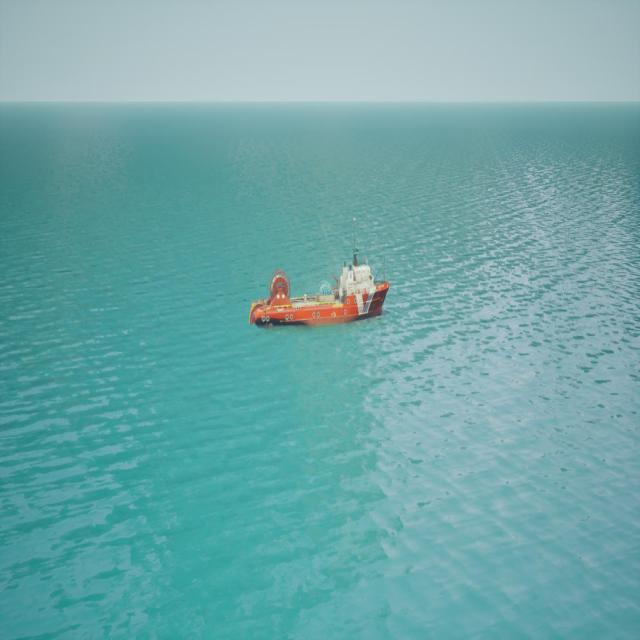tug boat: (249, 259, 395, 333)
